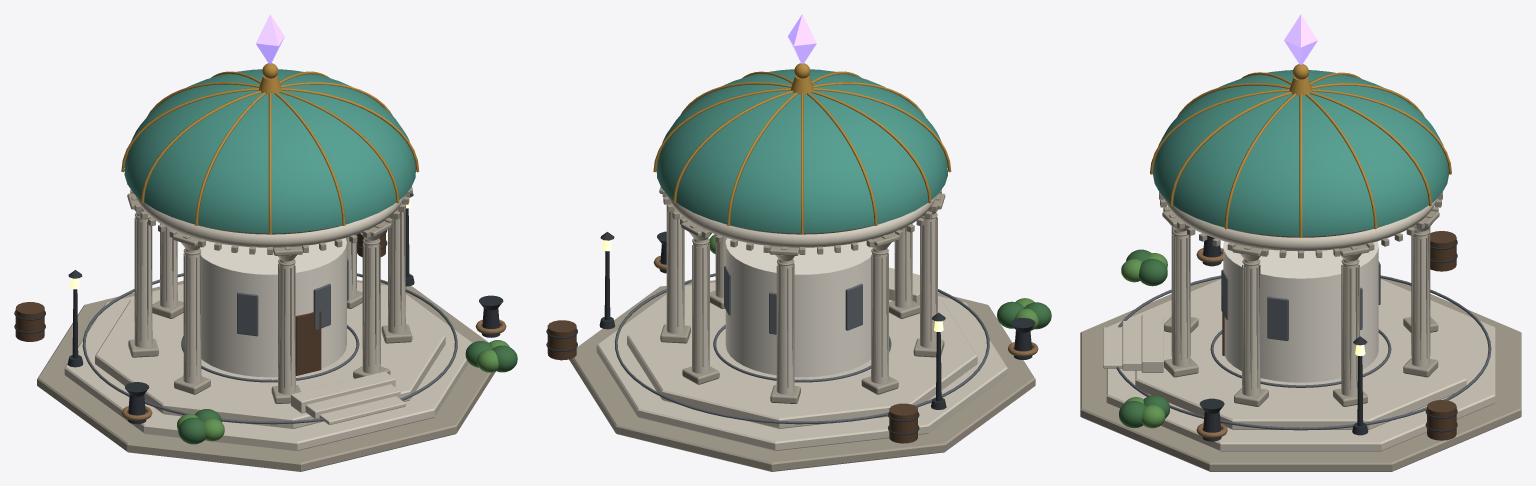
Rendered from unit02.glb.
3 views of the same model, side by side, from view 1: azimuth 30°, elevation 25°; view 2: azimuth 150°, elevation 25°; view 3: azimuth 270°, elevation 25° (orthographic).
Visible parts, largest first — view 1: rw3_unit02_archive_pavilion_part1, rw3_unit02_archive_pavilion_part5, rw3_unit02_archive_pavilion_part0, rw3_unit02_archive_pavilion_part3, rw3_unit02_archive_pavilion_part6, rw3_unit02_archive_pavilion_part2, rw3_unit02_archive_pavilion_part4, rw3_unit02_archive_pavilion_part7, rw3_unit02_archive_pavilion_part11, rw3_unit02_archive_pavilion_part10, Crystal; view 2: rw3_unit02_archive_pavilion_part1, rw3_unit02_archive_pavilion_part5, rw3_unit02_archive_pavilion_part0, rw3_unit02_archive_pavilion_part3, rw3_unit02_archive_pavilion_part6, rw3_unit02_archive_pavilion_part2, rw3_unit02_archive_pavilion_part7, rw3_unit02_archive_pavilion_part4, rw3_unit02_archive_pavilion_part11, Crystal; view 3: rw3_unit02_archive_pavilion_part1, rw3_unit02_archive_pavilion_part5, rw3_unit02_archive_pavilion_part0, rw3_unit02_archive_pavilion_part3, rw3_unit02_archive_pavilion_part6, rw3_unit02_archive_pavilion_part2, rw3_unit02_archive_pavilion_part4, rw3_unit02_archive_pavilion_part7, rw3_unit02_archive_pavilion_part11, rw3_unit02_archive_pavilion_part10, Crystal, rw3_unit02_archive_pavilion_part8.
Boxes of the visible parts, <box> form: rw3_unit02_archive_pavilion_part1: <box>64,195,472,450</box>; rw3_unit02_archive_pavilion_part5: <box>124,69,415,233</box>; rw3_unit02_archive_pavilion_part0: <box>37,186,495,471</box>; rw3_unit02_archive_pavilion_part3: <box>200,238,346,377</box>; rw3_unit02_archive_pavilion_part6: <box>121,63,419,234</box>; rw3_unit02_archive_pavilion_part2: <box>82,258,457,424</box>; rw3_unit02_archive_pavilion_part4: <box>15,231,385,375</box>; rw3_unit02_archive_pavilion_part7: <box>14,193,503,424</box>; rw3_unit02_archive_pavilion_part11: <box>178,341,517,444</box>; rw3_unit02_archive_pavilion_part10: <box>177,340,509,441</box>; Crystal: <box>256,14,284,64</box>; rw3_unit02_archive_pavilion_part1: <box>596,195,1007,450</box>; rw3_unit02_archive_pavilion_part5: <box>656,69,947,233</box>; rw3_unit02_archive_pavilion_part0: <box>569,187,1035,471</box>; rw3_unit02_archive_pavilion_part3: <box>725,238,872,377</box>; rw3_unit02_archive_pavilion_part6: <box>653,63,951,234</box>; rw3_unit02_archive_pavilion_part2: <box>614,266,989,424</box>; rw3_unit02_archive_pavilion_part7: <box>546,231,1035,435</box>; rw3_unit02_archive_pavilion_part4: <box>547,320,917,443</box>; rw3_unit02_archive_pavilion_part11: <box>997,301,1051,329</box>; Crystal: <box>788,14,816,64</box>; rw3_unit02_archive_pavilion_part1: <box>1103,197,1495,451</box>; rw3_unit02_archive_pavilion_part5: <box>1153,70,1448,236</box>; rw3_unit02_archive_pavilion_part0: <box>1080,192,1521,471</box>; rw3_unit02_archive_pavilion_part3: <box>1223,241,1378,382</box>; rw3_unit02_archive_pavilion_part6: <box>1150,64,1451,237</box>; rw3_unit02_archive_pavilion_part2: <box>1116,261,1491,430</box>; rw3_unit02_archive_pavilion_part4: <box>1222,231,1456,440</box>; rw3_unit02_archive_pavilion_part7: <box>1199,235,1457,441</box>; rw3_unit02_archive_pavilion_part11: <box>1119,249,1169,428</box>; rw3_unit02_archive_pavilion_part10: <box>1121,253,1167,428</box>; Crystal: <box>1284,14,1317,64</box>; rw3_unit02_archive_pavilion_part8: <box>1196,248,1227,438</box>.
Size of the model in its own units: 6.02 by 5.44 by 5.95.
